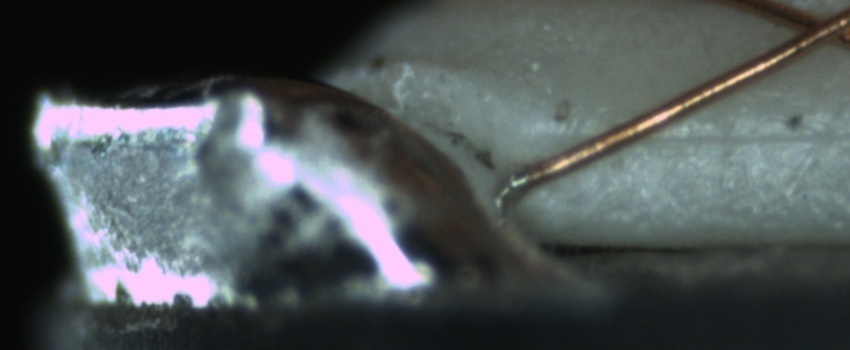CL: (776, 2, 849, 55)
DL: (549, 105, 849, 169)
TS: (503, 168, 528, 199)
